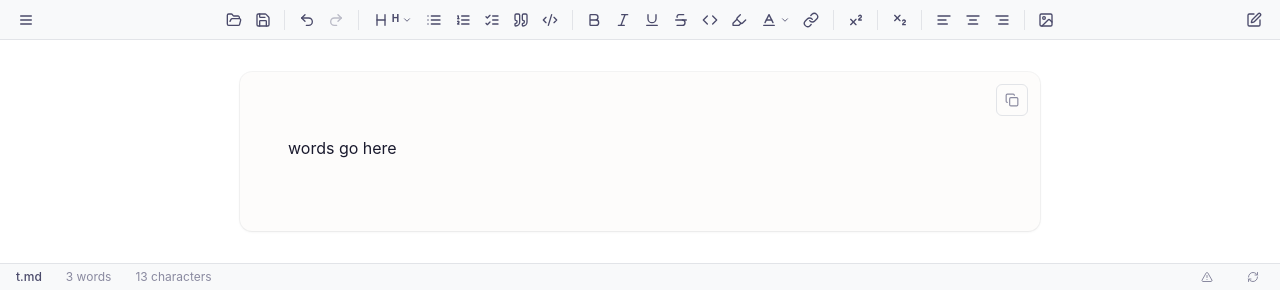
Test: Editor › counts tokens and transitions from stale to fresh
This screenshot has width=1280, height=301.
Expected: the text "t.md" is shown, [16,269,42,284]
Step 1. Click the button named "count tokens" → (1253, 277), box [1242,269,1264,284]
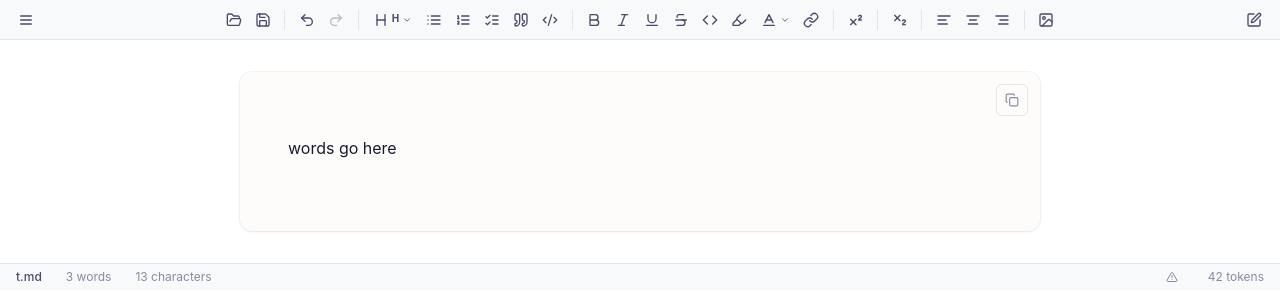
Expected: the text "42 tokens" is shown, [1208,269,1264,284]
